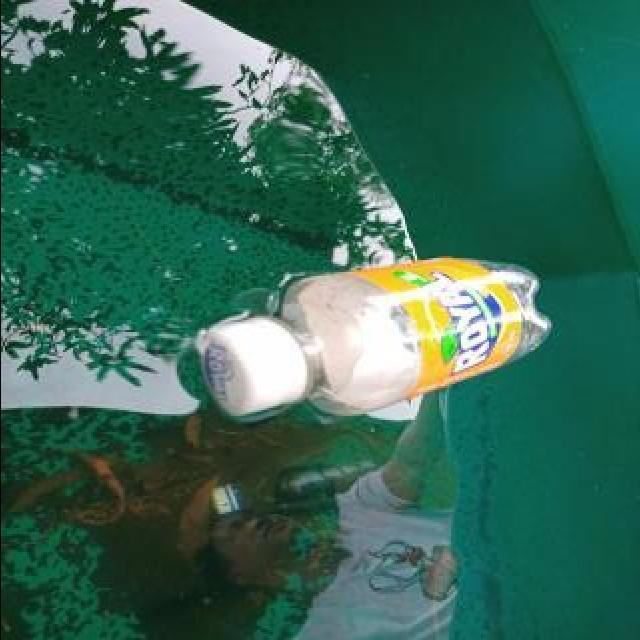Bottle: (194, 233, 558, 430), (206, 434, 381, 528)
